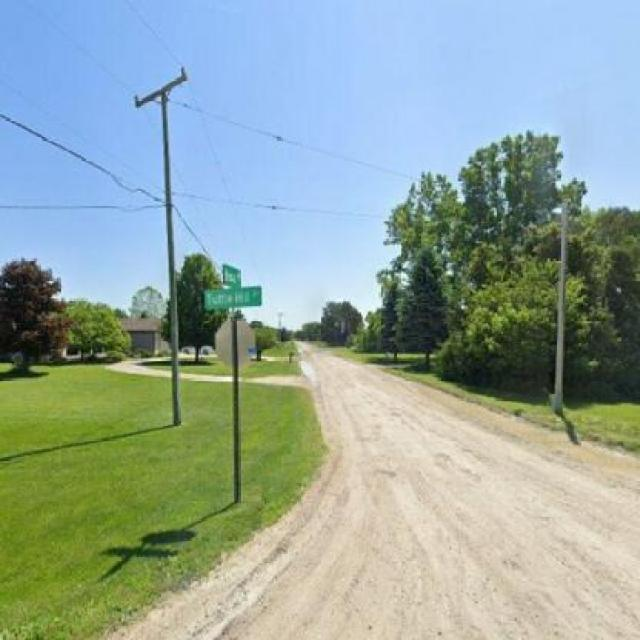pole: (126, 65, 202, 422)
